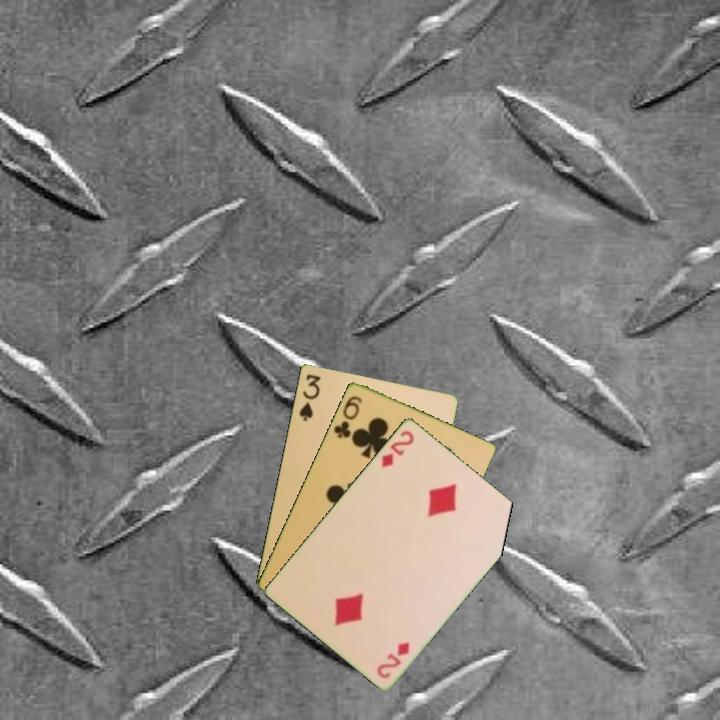2d: (373, 638, 413, 681), (378, 426, 417, 470)
3s: (295, 370, 323, 424)
6c: (330, 392, 365, 441)
